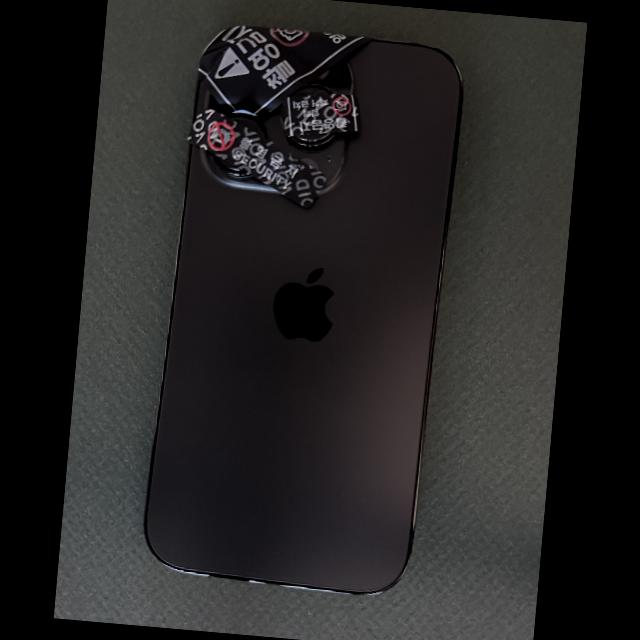lens: (227, 114, 270, 141), (290, 133, 337, 147)
phone: (143, 24, 464, 595)
sticker: (197, 25, 374, 117), (186, 107, 327, 208), (281, 93, 361, 137)
